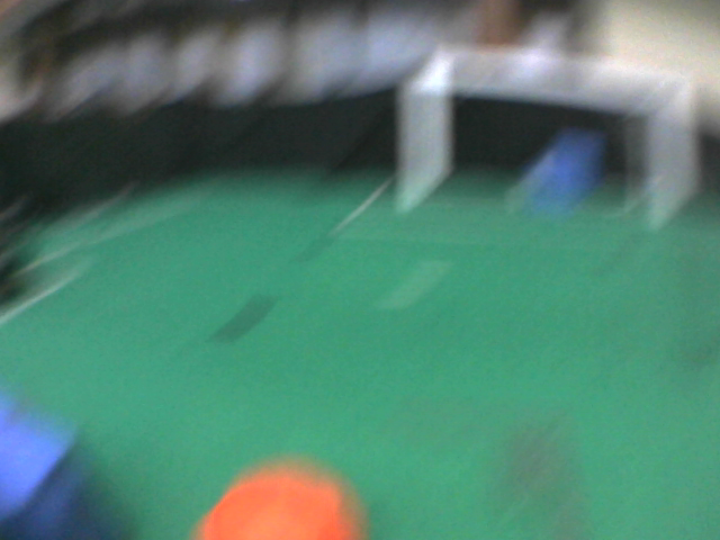bola: (184, 446, 372, 540)
